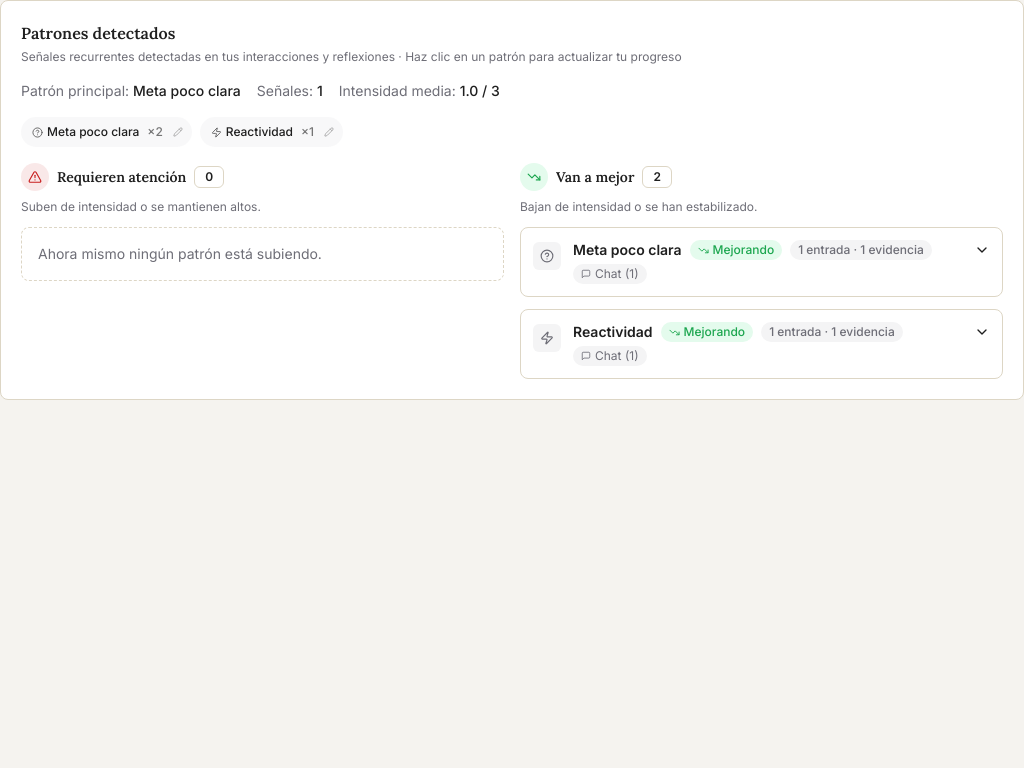
DetectedPatternsPanel › groups related evidence once inside each pattern entry
This screenshot has width=1024, height=768.
Expected: the element with test id "detected-pattern-group-unclear_goal" is shown, [520, 227, 1003, 297]
Expected: the element with test id "detected-pattern-group-reactivity" is shown, [520, 309, 1003, 379]
Click the button "Meta poco clara Mejorando 1 entrada · 1 evidencia Chat (1)": {"x": 762, "y": 262} [533, 240, 990, 284]
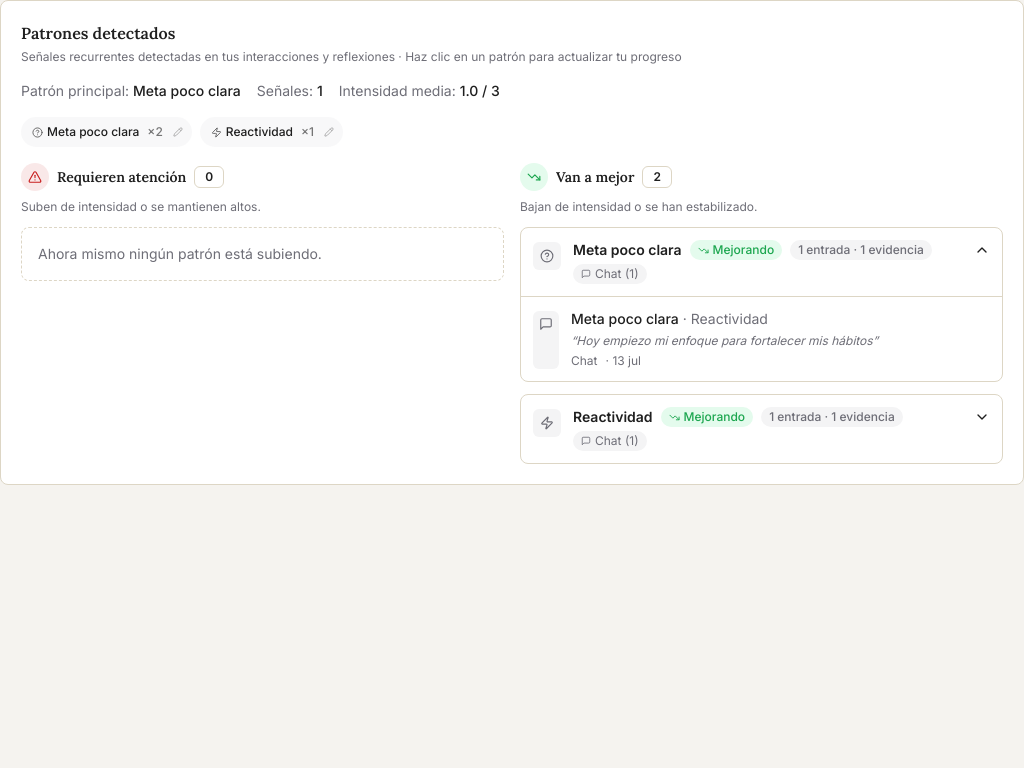
Expected: the text "“Hoy empiezo mi enfoque para fortalecer mis hábitos”" is shown once, [571, 333, 878, 348]
Click the button "Reactividad Mejorando 1 entrada · 1 evidencia Chat (1)": {"x": 762, "y": 429} [533, 407, 990, 451]
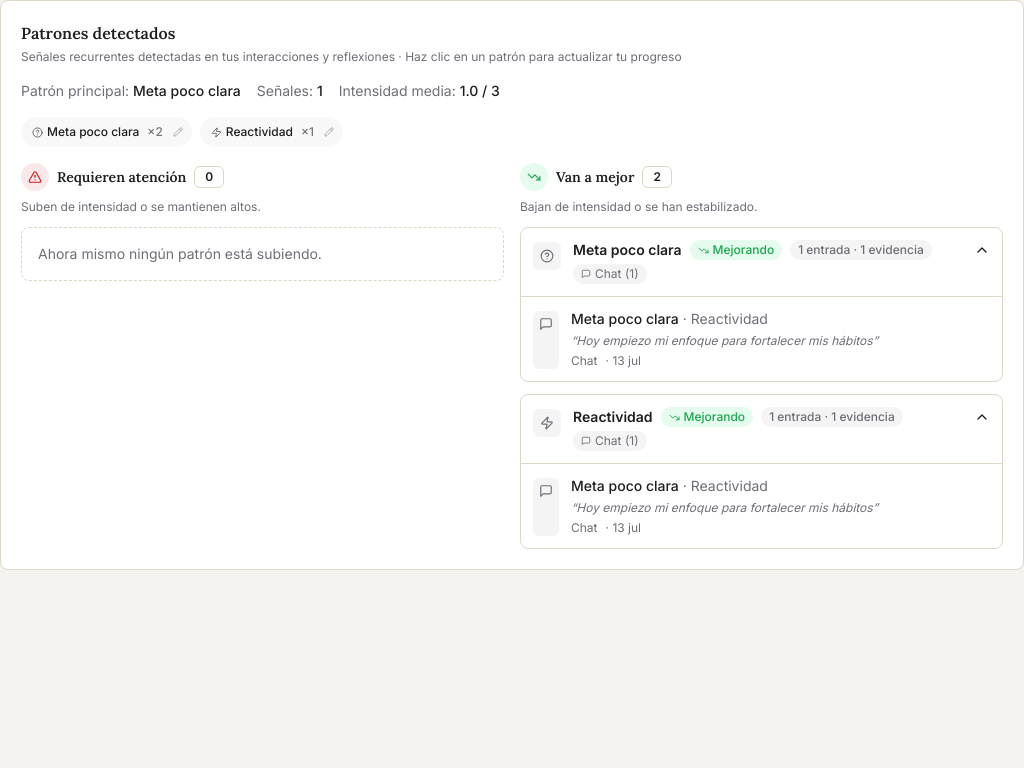
Expected: the text "“Hoy empiezo mi enfoque para fortalecer mis hábitos”" is shown once, [571, 500, 878, 515]
